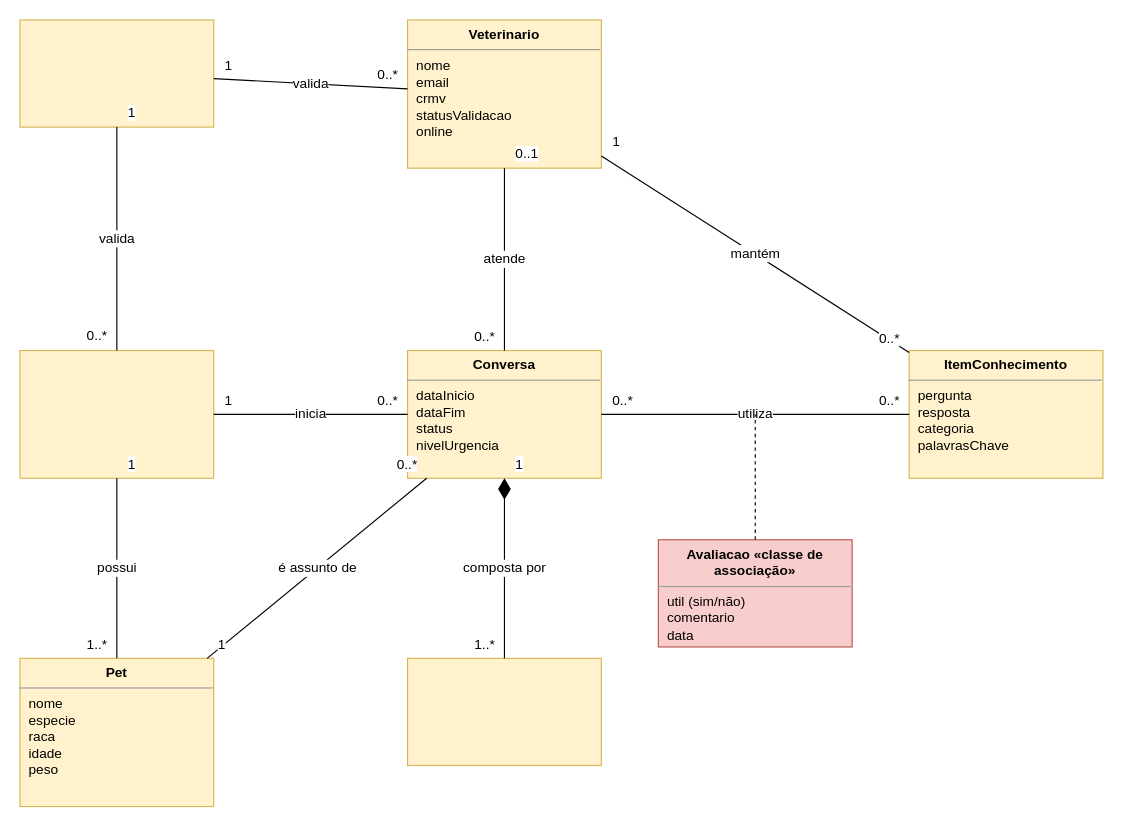
The diagram is 1123 pixels wide and 827 high, and some of its shapes have lost their labels. Each missing label, with the centre of its shape:
Administrador nome email senha: (x=116, y=73)
Mensagem conteudo dataHora remetente (TUTOR/BOT/VET): (x=503, y=711)
Tutor nome email telefone senha: (x=116, y=413)
